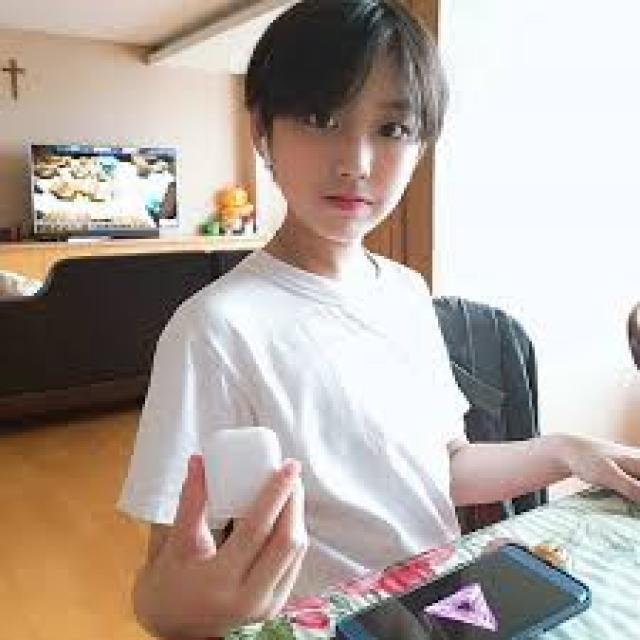earphone: (252, 125, 278, 170)
smart phone: (336, 538, 603, 640)
